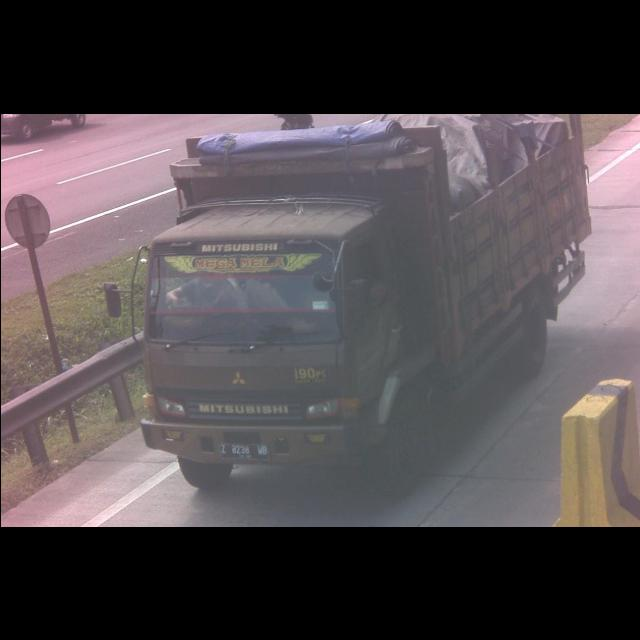plate: (218, 444, 270, 458)
